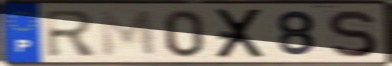0: (161, 8, 207, 60)
8: (275, 10, 318, 58)
M: (97, 9, 160, 59)
R: (42, 8, 102, 59)
S: (324, 8, 380, 59)
X: (214, 7, 269, 60)
